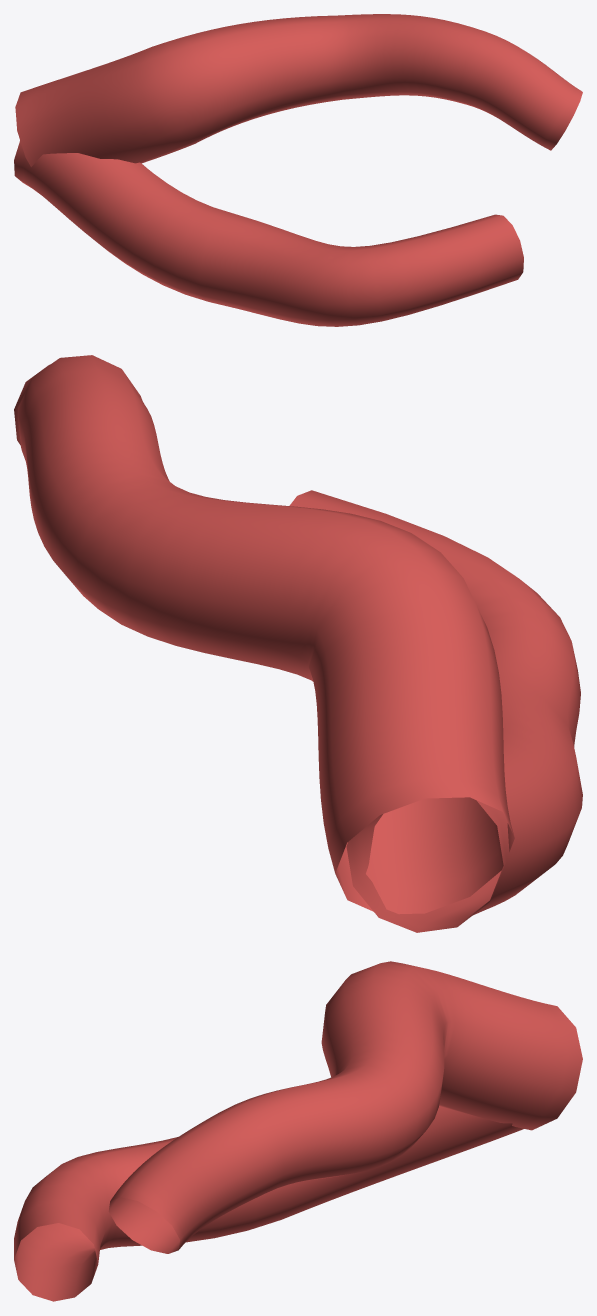
The picture shows the model from 3 angles, top to bottom: view 1: azimuth 30°, elevation 25°; view 2: azimuth 150°, elevation 25°; view 3: azimuth 270°, elevation 25°; orthographic projection. The views are drawn at different scales.
Parts seen in each view (by area): view 1: 左侧大脑中动脉M2段岛叶支; view 2: 左侧大脑中动脉M2段岛叶支; view 3: 左侧大脑中动脉M2段岛叶支.
Boxes of the visible parts, x1=… form: 左侧大脑中动脉M2段岛叶支: x1=14, y1=14, x2=582, y2=326; 左侧大脑中动脉M2段岛叶支: x1=14, y1=355, x2=582, y2=932; 左侧大脑中动脉M2段岛叶支: x1=14, y1=961, x2=582, y2=1301.
Bounding box in the file's own units: 0.0187 × 0.00917 × 0.0179.
